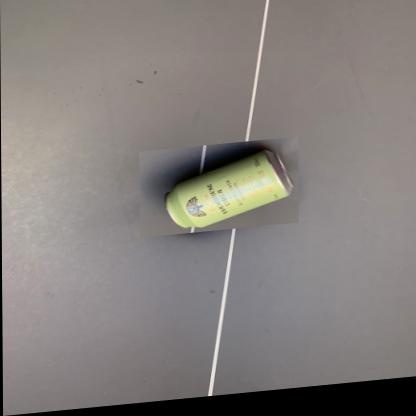trash: (166, 149, 293, 228)
